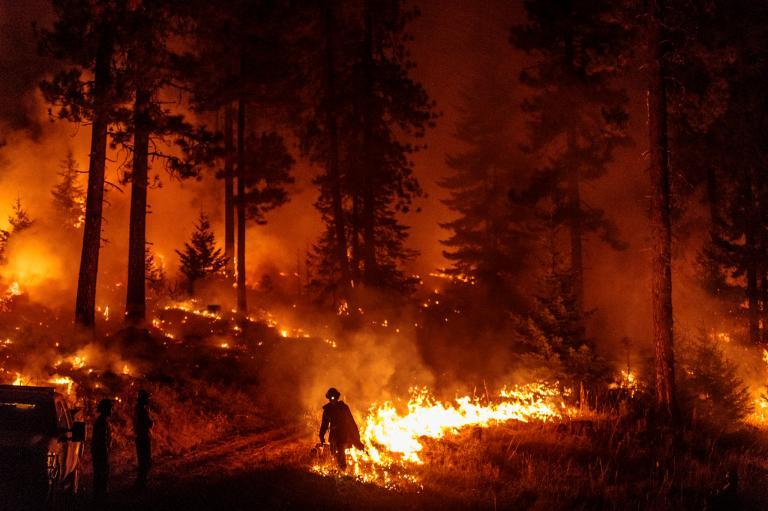fire: (1, 51, 768, 511)
